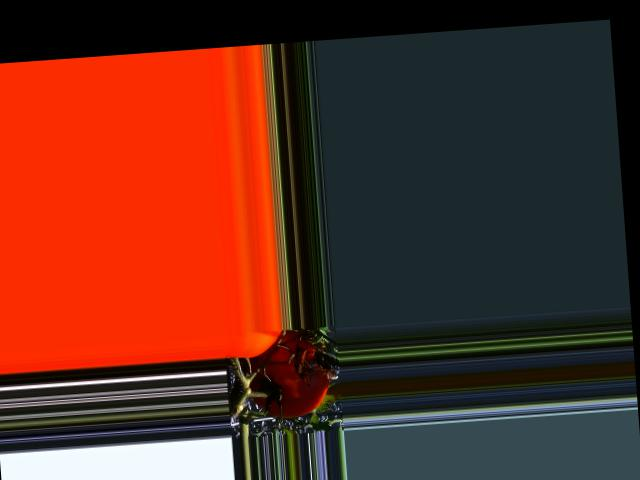tomato: (245, 328, 333, 420)
